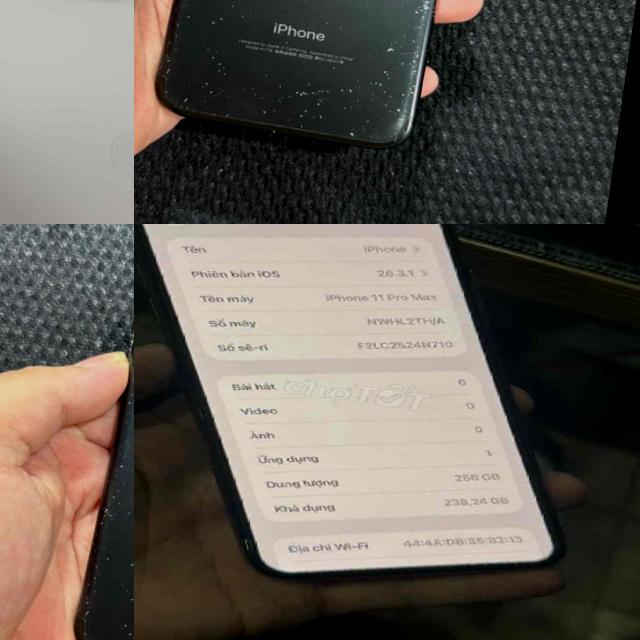scratch: (157, 0, 469, 147), (76, 262, 134, 640)
